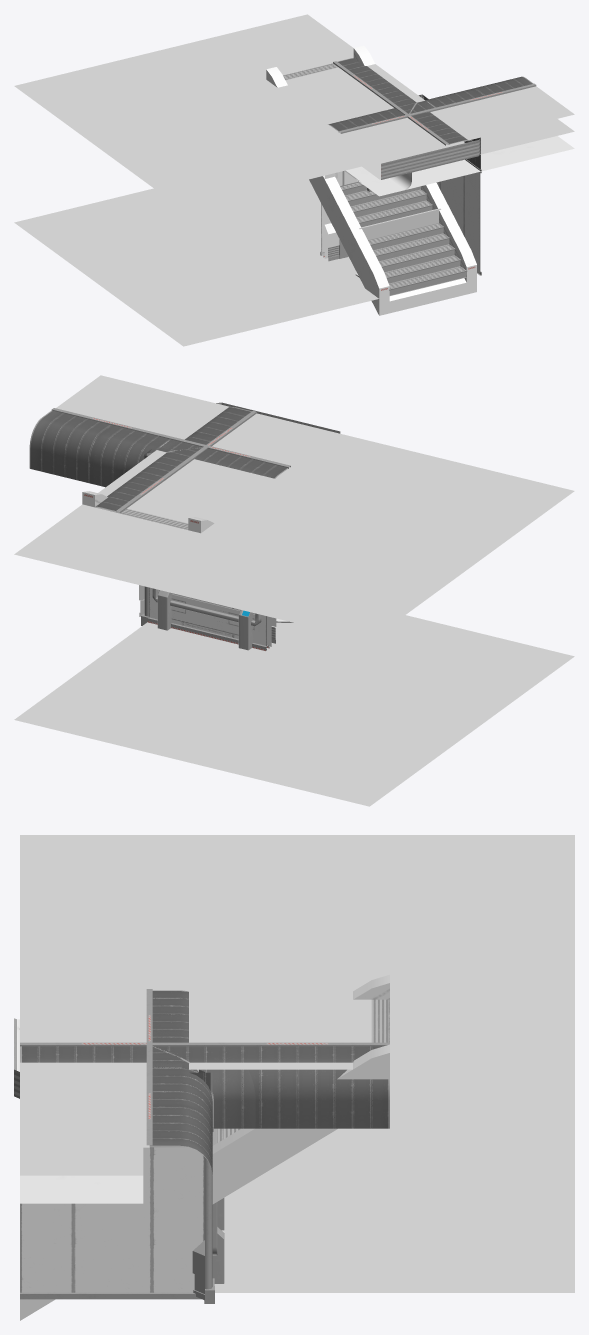
The model's file is SM_NuclearFacility.fbx.
3 renders of one model, top to bottom at view 1: azimuth 30°, elevation 25°; view 2: azimuth 150°, elevation 25°; view 3: azimuth 270°, elevation 25°, orthographic. The views are drawn at different scales.
Parts seen in each view (by area): view 1: Roof-3x3, Floor-3x3, Stairs, Roof_Indent, OuterSeperator_Indent_Top, Ceiling_Indent_Lower, Roof, OuterWall_Corner, Roof_Edge, InnerSeperator_Straight_Top, Ceiling_Indent, OuterSeperator_Corner_Top (+7 smaller); view 2: Floor-3x3, Roof-3x3, OuterSeperator_Indent_Top, Roof_Indent, Roof, OuterRailing_Straight-3m, OuterSeperator_Straight_Top, Roof_Edge, OuterSeperator_Corner_Top, Door_Frame, Stairs, Roof_Corner (+3 smaller); view 3: Roof-3x3, Floor-3x3, OuterWall_Corner, OuterSeperator_Indent_Top, Roof_Indent, Roof, Stairs, Ceiling_Indent_Lower, Ceiling_Indent, OuterSeperator_Corner_Top, OuterSeperator_Straight_Top, Door_Frame (+2 smaller).
Part boxes in pixels (x1,y1,x2,y2): Roof-3x3: (14, 14, 469, 209); Floor-3x3: (14, 179, 378, 346); Stairs: (266, 45, 476, 315); Roof_Indent: (279, 67, 574, 145); OuterSeperator_Indent_Top: (333, 58, 536, 115); Ceiling_Indent_Lower: (360, 136, 574, 196); Roof: (323, 97, 467, 161); OuterWall_Corner: (436, 159, 481, 275); Roof_Edge: (340, 111, 467, 161); InnerSeperator_Straight_Top: (379, 140, 478, 179); Ceiling_Indent: (447, 119, 574, 154); OuterSeperator_Corner_Top: (372, 105, 480, 171); Floor-3x3: (14, 615, 574, 806); Roof-3x3: (14, 405, 574, 641); OuterSeperator_Indent_Top: (29, 408, 208, 513); Roof_Indent: (56, 375, 330, 523); Roof: (151, 404, 337, 483); OuterRailing_Straight-3m: (147, 590, 269, 650); OuterSeperator_Straight_Top: (159, 437, 290, 478); Roof_Edge: (175, 405, 337, 453); OuterSeperator_Corner_Top: (176, 406, 256, 463); Door_Frame: (157, 590, 253, 650); Stairs: (82, 491, 214, 533); Roof_Corner: (215, 414, 336, 453); Roof-3x3: (20, 835, 574, 1069); Floor-3x3: (214, 1069, 574, 1292); OuterWall_Corner: (20, 1126, 213, 1299); OuterSeperator_Indent_Top: (146, 1042, 389, 1175); Roof_Indent: (20, 991, 370, 1147); Roof: (20, 991, 204, 1069); Stairs: (20, 974, 389, 1320); Ceiling_Indent_Lower: (20, 1175, 143, 1203); Ceiling_Indent: (20, 1147, 143, 1175); OuterSeperator_Corner_Top: (20, 1015, 188, 1062); OuterSeperator_Straight_Top: (146, 989, 198, 1072); Door_Frame: (212, 1198, 224, 1283).
Size of what is drawn, in the model's own units: 1200 by 480 by 910.
